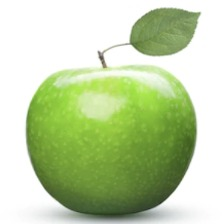apple: (27, 11, 207, 180)
